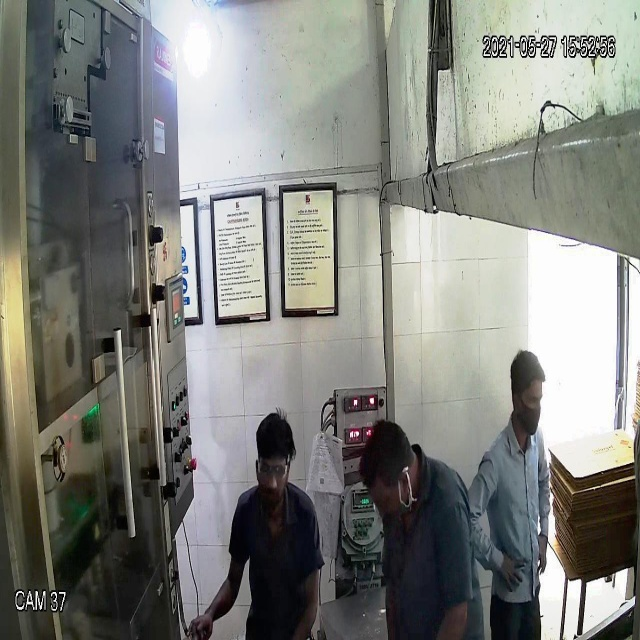Gafas: (253, 453, 293, 481)
Sin_gafas: (522, 389, 547, 411)
